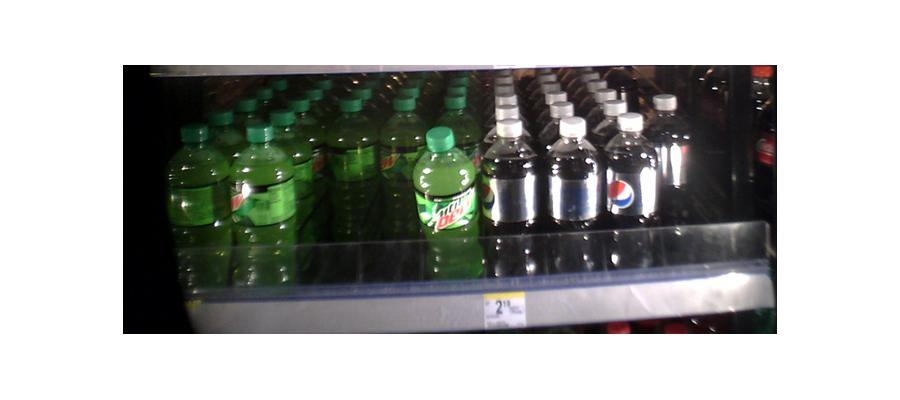bottle: (165, 124, 230, 310), (231, 124, 297, 289), (483, 98, 538, 286), (418, 125, 479, 284), (323, 105, 377, 279), (544, 119, 604, 274), (379, 95, 426, 280), (606, 111, 659, 252)
